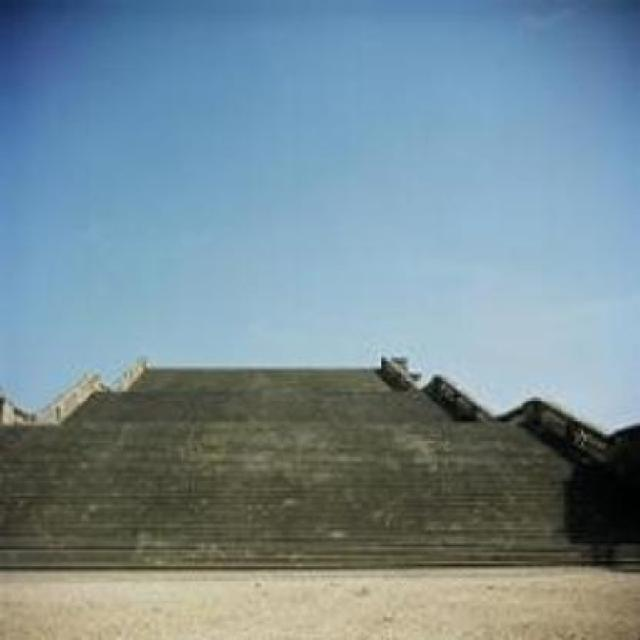stair: (11, 358, 640, 574)
